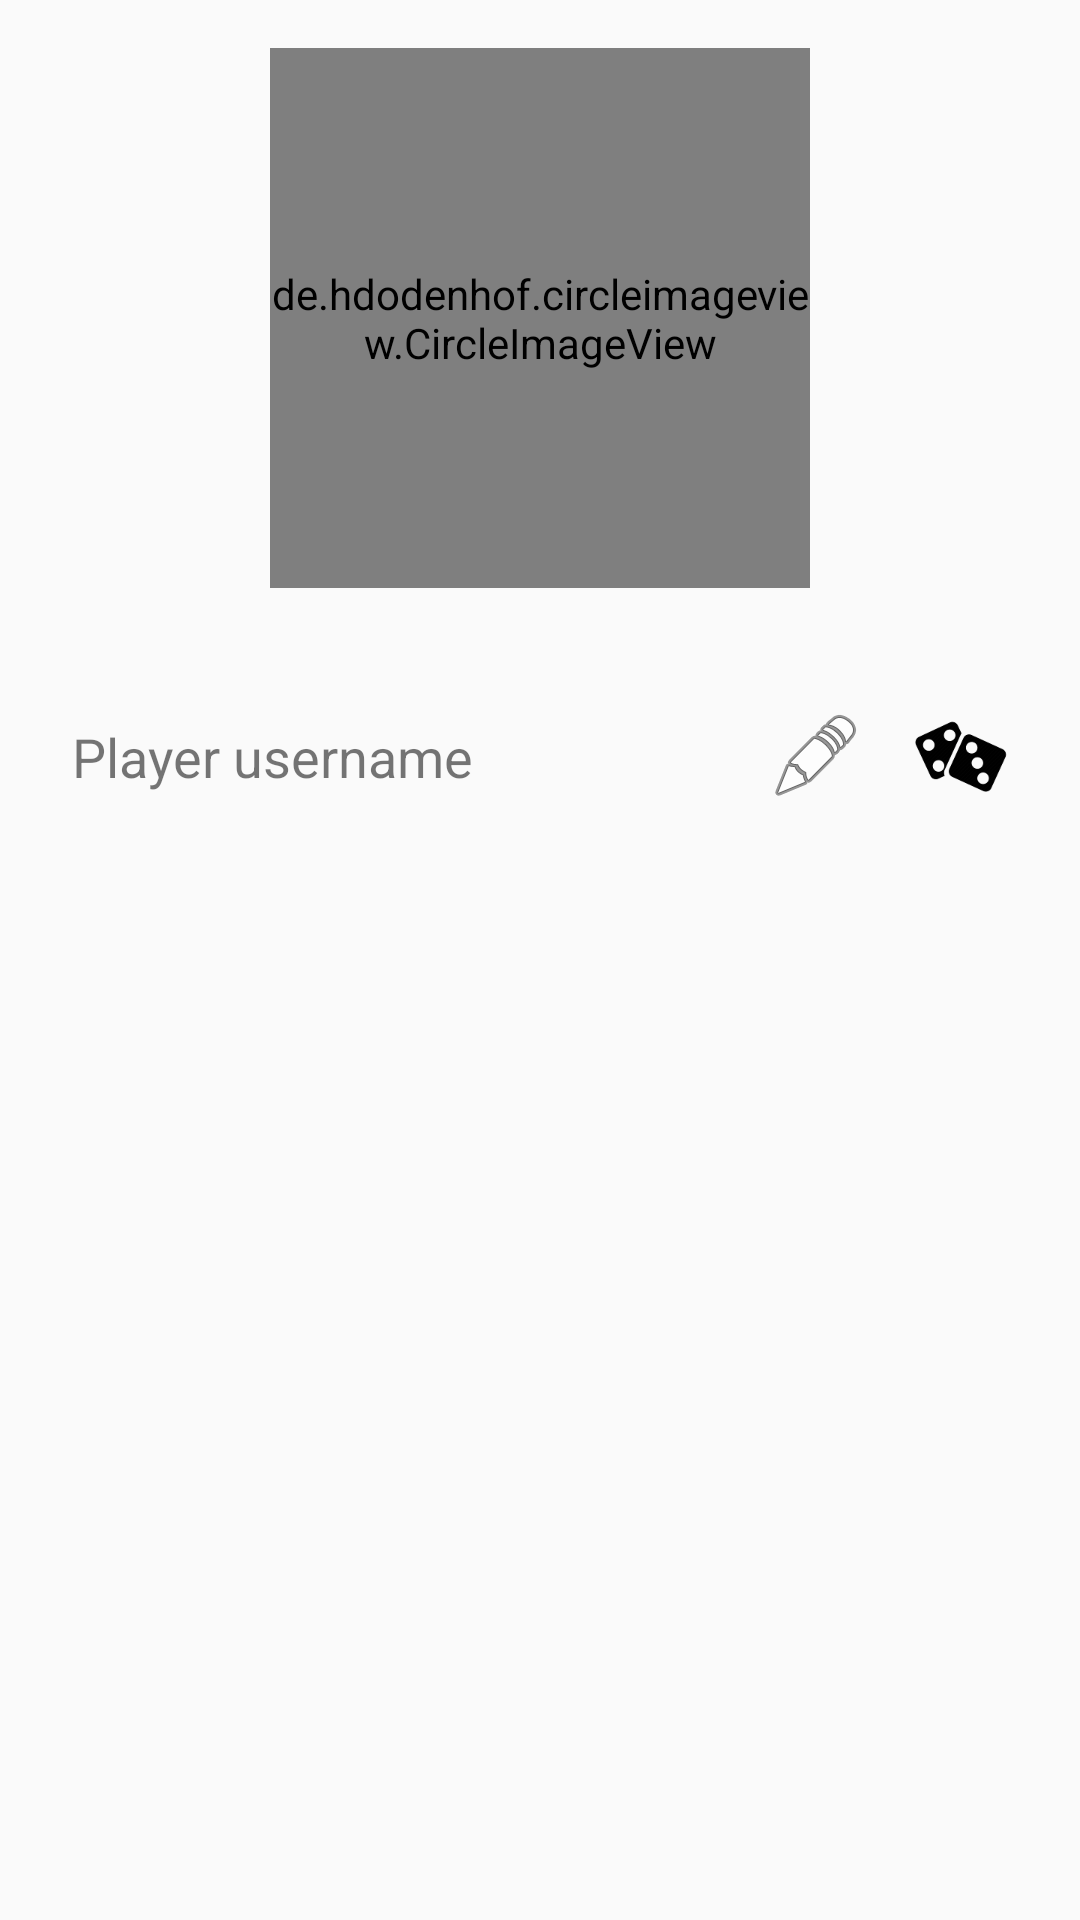

Named icons in this screenshot (1080*1920) and their bounding boxes, (x1, y1, x2, y2):
dice: (915, 721, 1007, 792)
edit: (775, 715, 856, 796)
